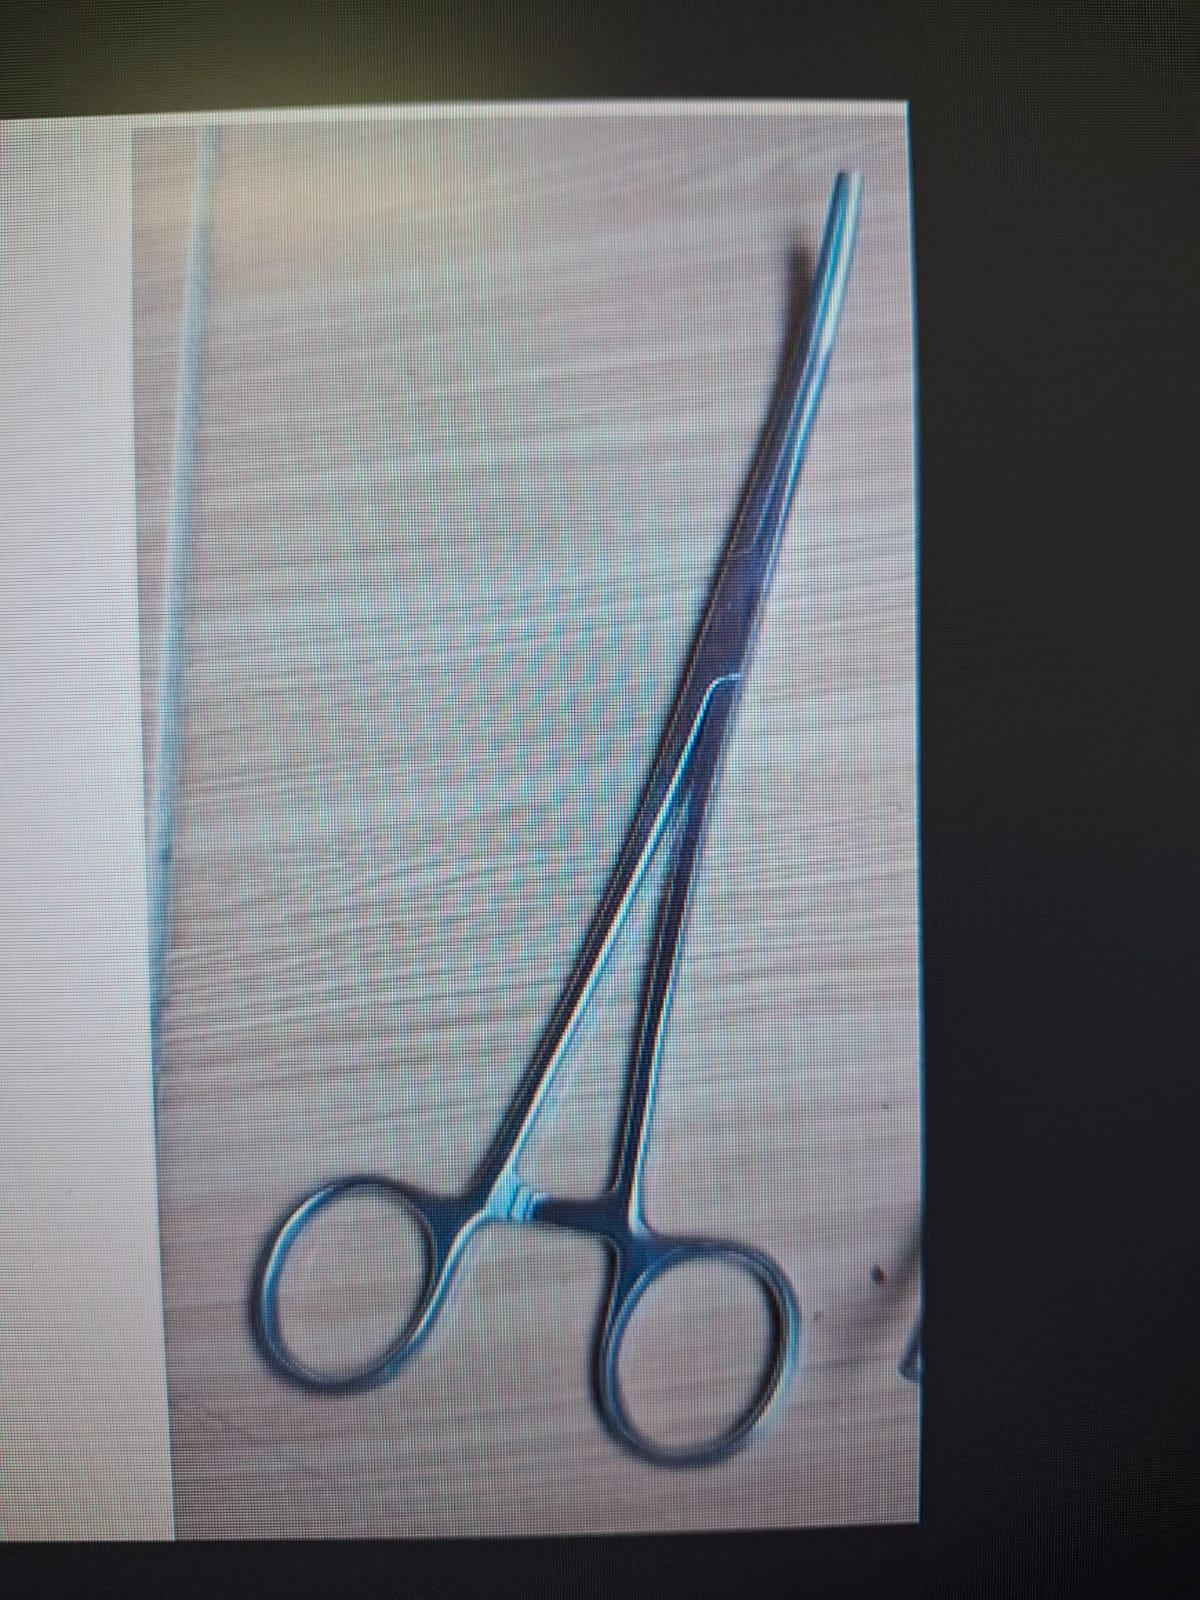Doyel Instestinal Forceps: (223, 145, 903, 1460)
